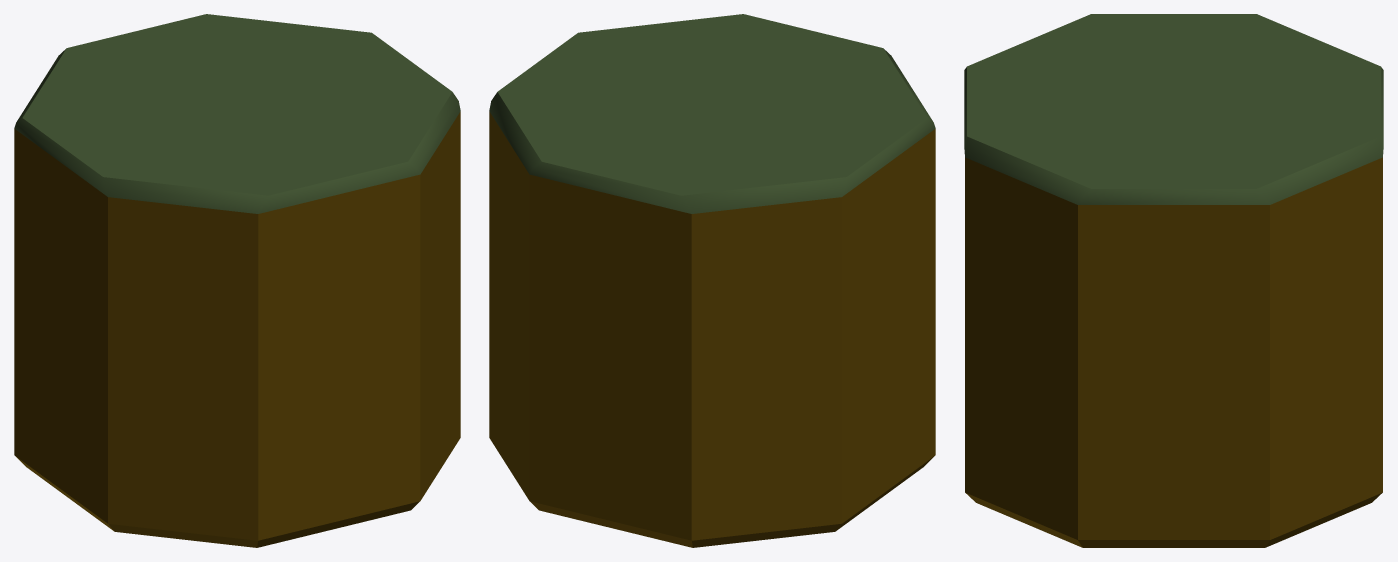
The model's file is envCliff_20x20c.fbx.
3 renders of one model, left to right at view 1: azimuth 30°, elevation 25°; view 2: azimuth 150°, elevation 25°; view 3: azimuth 270°, elevation 25°, orthographic. The views are drawn at different scales.
Parts seen in each view (by area): view 1: envCliff_20x20; view 2: envCliff_20x20; view 3: envCliff_20x20.
Boxes of the visible parts, x1,y1,x2,y2 form: envCliff_20x20: (14,14,460,547); envCliff_20x20: (489,14,935,547); envCliff_20x20: (964,14,1383,547).
Size of the model in its own units: 20.42 by 19.49 by 20.42.
